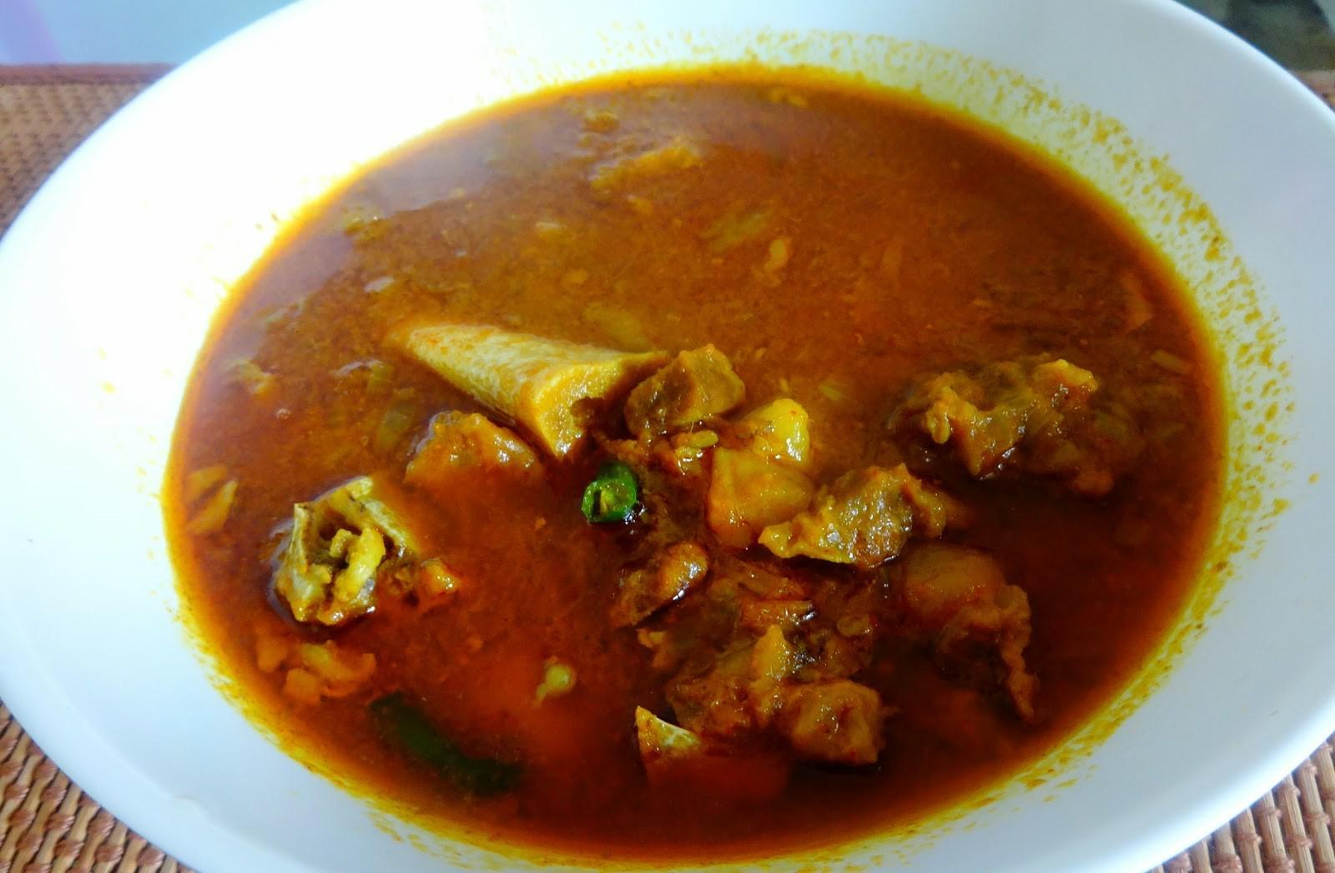MuttonCurry: (169, 75, 1221, 839)
